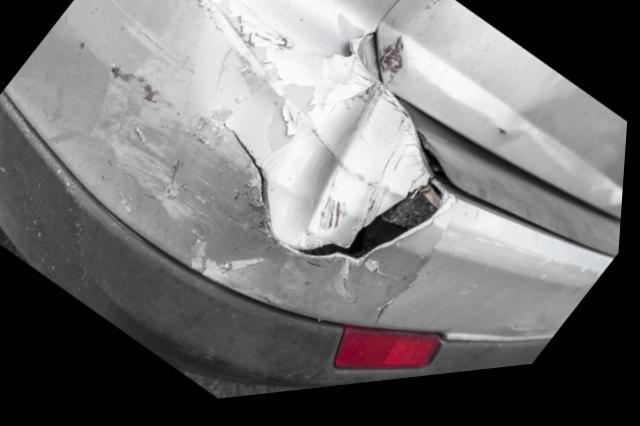crack: (228, 130, 450, 270)
dent: (261, 63, 433, 253), (496, 119, 552, 171)
scratch: (93, 0, 345, 306)
